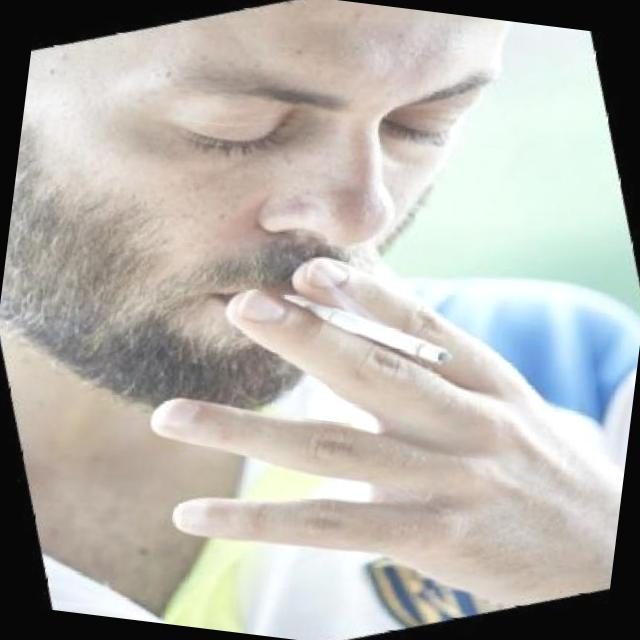cigarette: (259, 245, 464, 416)
